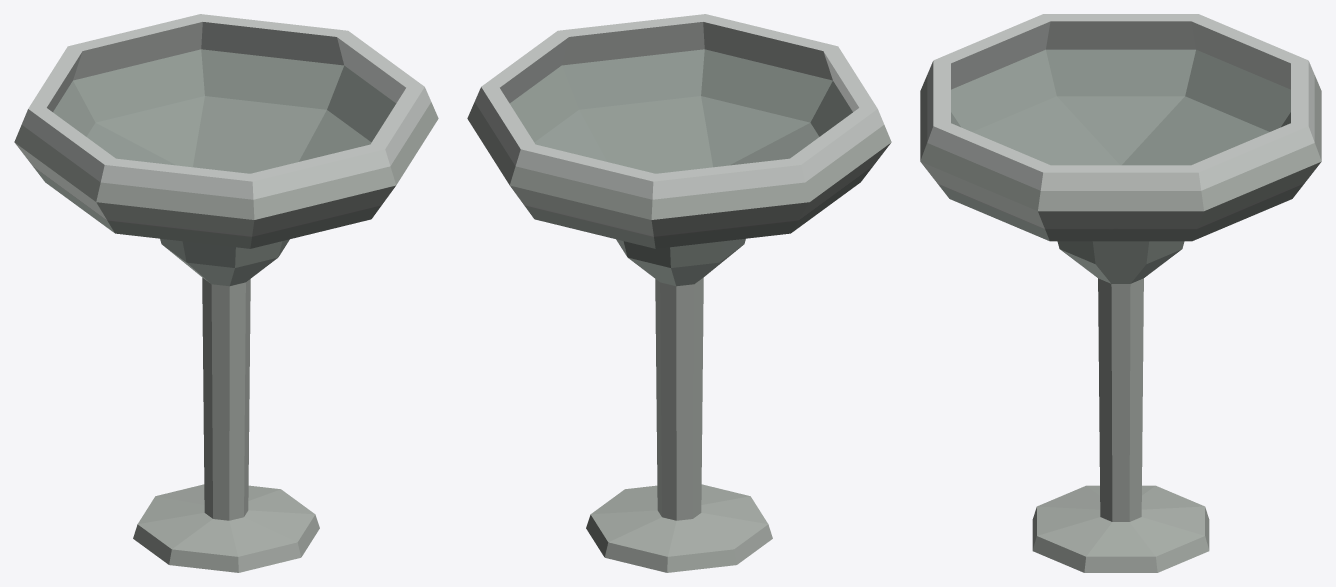
Rendered from SM_Prop_Bar_Glass_Empty_09.obj.
3 renders of one model, left to right at view 1: azimuth 30°, elevation 25°; view 2: azimuth 150°, elevation 25°; view 3: azimuth 270°, elevation 25°, orthographic.
Parts seen in each view (by area): view 1: SM_Prop_Bar_Glass_Empty_09_0; view 2: SM_Prop_Bar_Glass_Empty_09_0; view 3: SM_Prop_Bar_Glass_Empty_09_0.
Part boxes in pixels (box(x1,y1,x2,y2)): SM_Prop_Bar_Glass_Empty_09_0: box(14, 14, 438, 572); SM_Prop_Bar_Glass_Empty_09_0: box(467, 14, 891, 572); SM_Prop_Bar_Glass_Empty_09_0: box(920, 14, 1321, 572).
Bounding box in the file's own units: 0.1948 × 0.2368 × 0.1948.
1 material, 1 textured.
